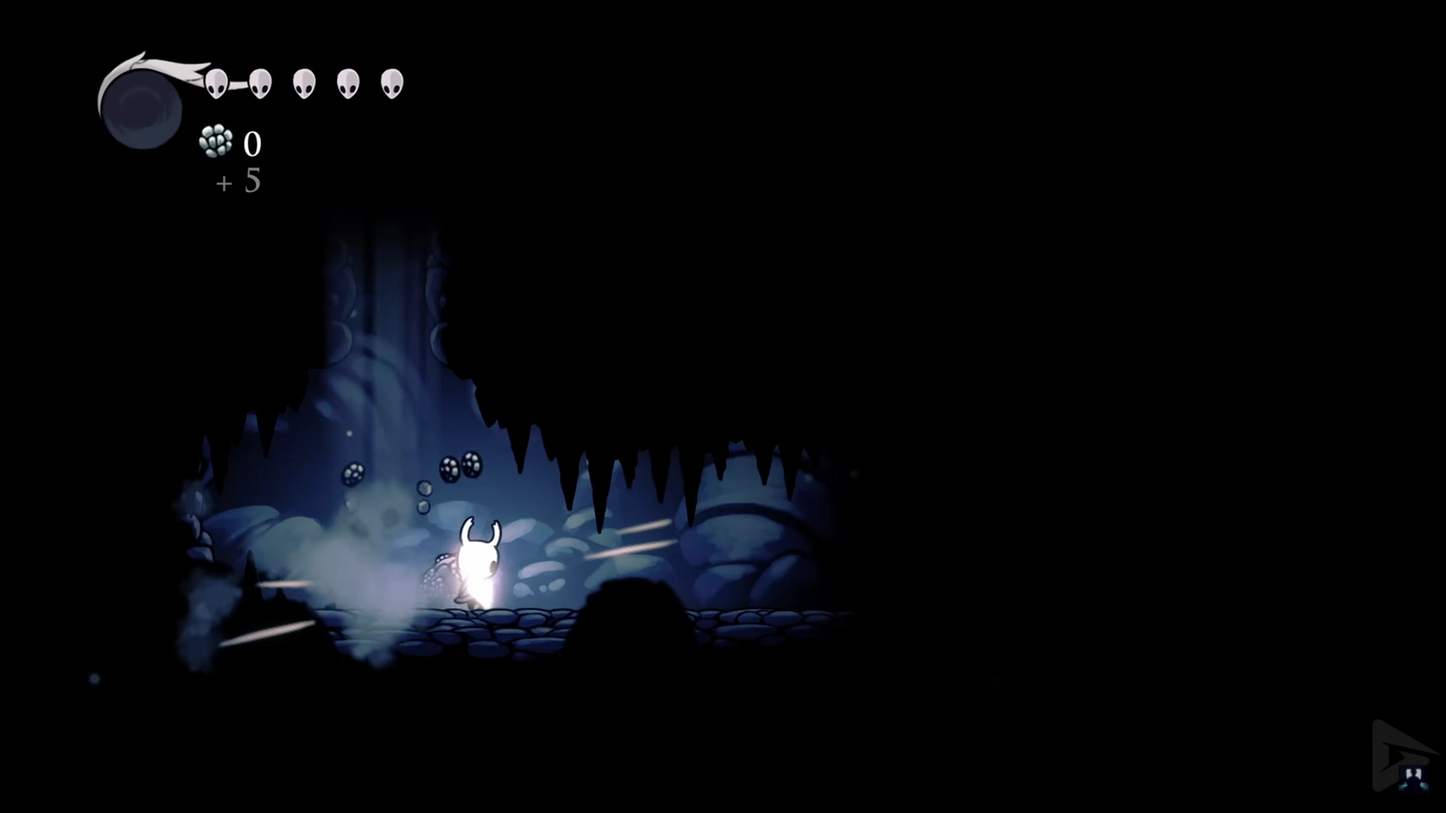HK: (455, 511, 502, 622)
